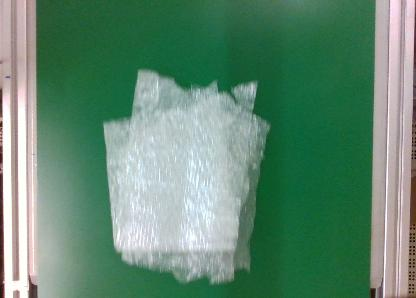Others: (101, 66, 273, 286)
